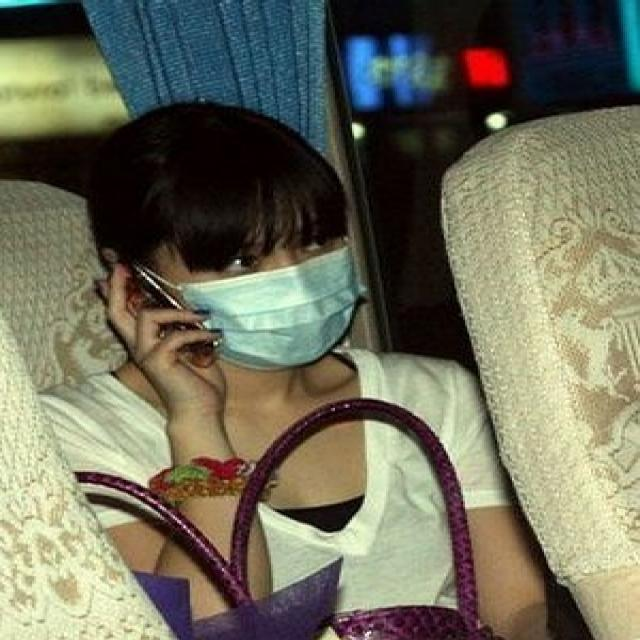mask: (197, 187, 353, 370)
